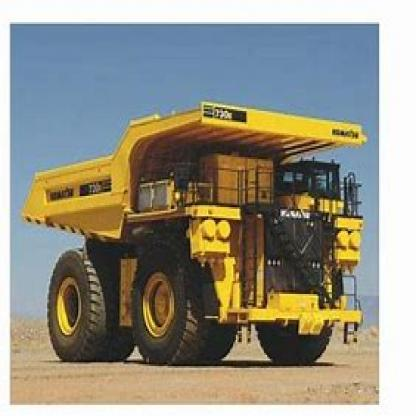dump_truck: (28, 91, 367, 356)
